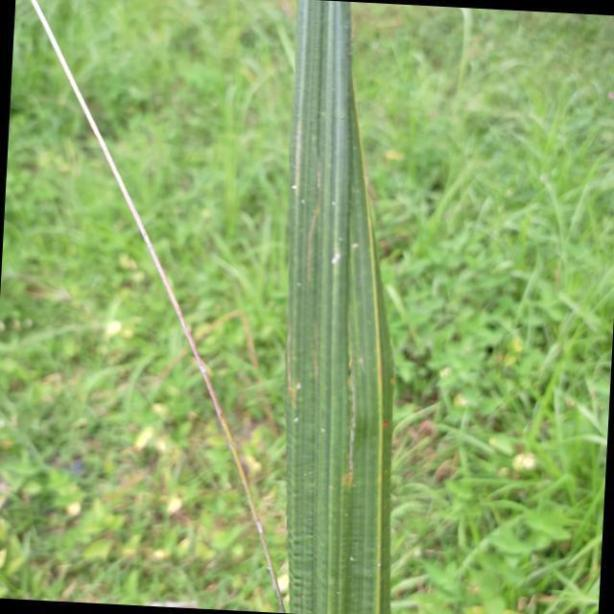Boron: (284, 1, 395, 614)
